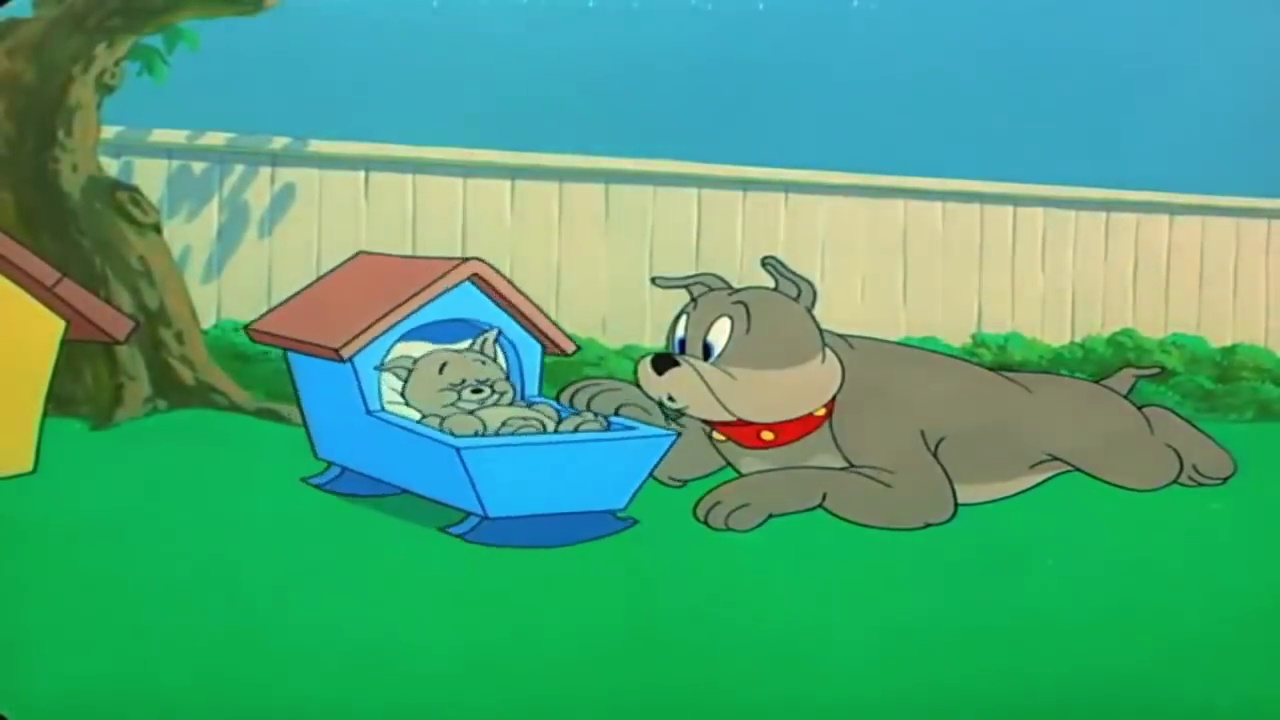spike: (632, 255, 848, 452)
